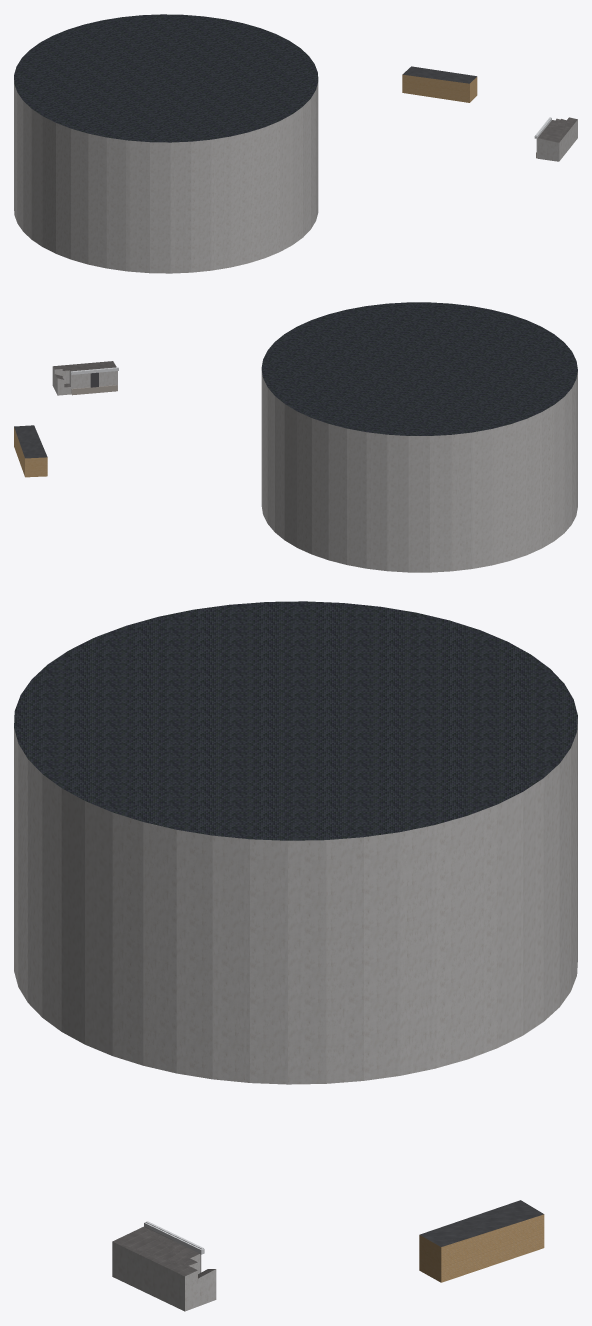
3 renders of one model, top to bottom at view 1: azimuth 30°, elevation 25°; view 2: azimuth 150°, elevation 25°; view 3: azimuth 270°, elevation 25°, orthographic. The views are drawn at different scales.
Parts seen in each view (by area): view 1: bldg_6000064495, bldg_6000064495_roof, bldg_6000114701, bldg_6008396636, bldg_6000114701_roof, bldg_6008396636_roof; view 2: bldg_6000064495, bldg_6000064495_roof, bldg_6008396636_facade1, bldg_6000114701_roof, bldg_6000114701, bldg_6008396636_roof, bldg_6008396636; view 3: bldg_6000064495, bldg_6000064495_roof, bldg_6000114701, bldg_6008396636, bldg_6000114701_roof, bldg_6008396636_roof.
Part boxes in pixels (x1,y1,x2,y2): bldg_6000064495: [14, 80, 318, 273]; bldg_6000064495_roof: [14, 14, 318, 142]; bldg_6000114701: [402, 74, 477, 102]; bldg_6008396636: [537, 120, 577, 161]; bldg_6000114701_roof: [402, 66, 476, 83]; bldg_6008396636_roof: [538, 117, 577, 142]; bldg_6000064495: [261, 371, 577, 572]; bldg_6000064495_roof: [261, 302, 577, 435]; bldg_6008396636_facade1: [70, 367, 118, 395]; bldg_6000114701_roof: [14, 425, 47, 458]; bldg_6000114701: [14, 427, 47, 477]; bldg_6008396636_roof: [53, 361, 116, 387]; bldg_6008396636: [52, 366, 117, 395]; bldg_6000064495: [14, 648, 577, 1084]; bldg_6000064495_roof: [14, 601, 577, 840]; bldg_6000114701: [419, 1214, 544, 1282]; bldg_6008396636: [112, 1242, 216, 1311]; bldg_6000114701_roof: [420, 1200, 543, 1246]; bldg_6008396636_roof: [112, 1226, 215, 1278].
Bounding box in the file's own units: 84.13 × 20.5 × 42.99.
Materials: 8 (5 with a texture image).
